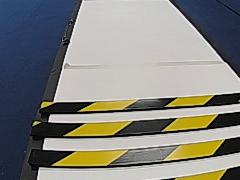bump: (28, 87, 235, 167)
